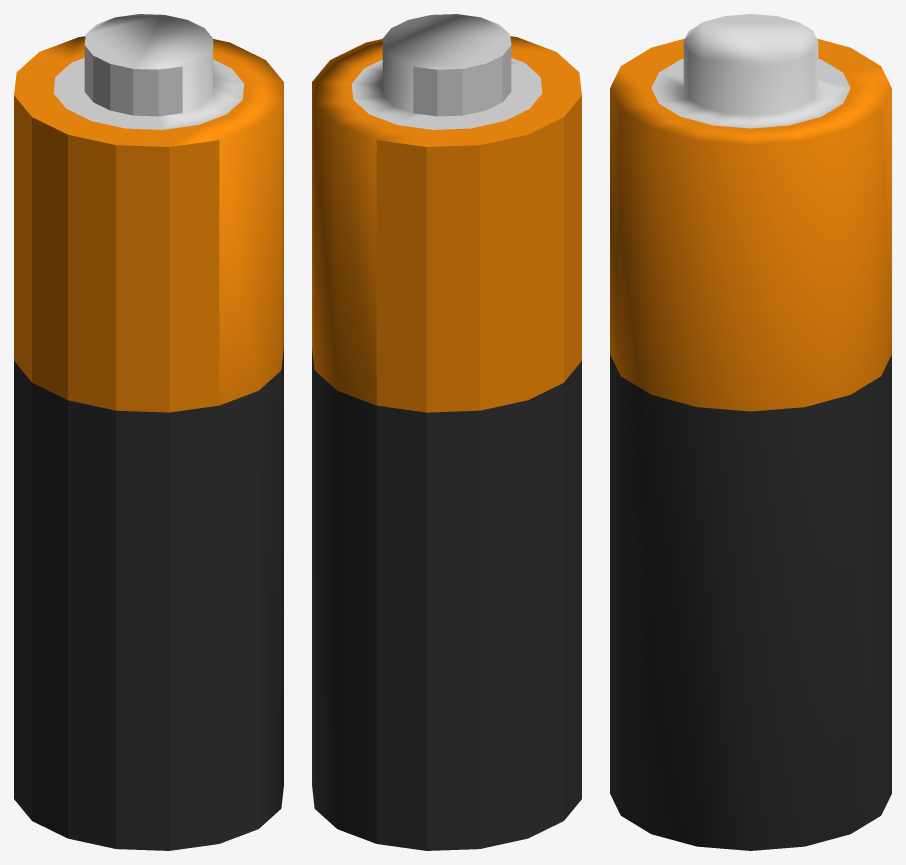
File: battery.gltf
The picture shows the model from 3 angles, left to right: view 1: azimuth 30°, elevation 25°; view 2: azimuth 150°, elevation 25°; view 3: azimuth 270°, elevation 25°; orthographic projection.
Parts seen in each view (by area): view 1: battery; view 2: battery; view 3: battery.
Part boxes in pixels (bbox=[...]): battery: bbox=[14, 14, 283, 850]; battery: bbox=[312, 14, 581, 850]; battery: bbox=[610, 14, 891, 850].
Size of the model in its own units: 1.45 by 4.49 by 1.51.
